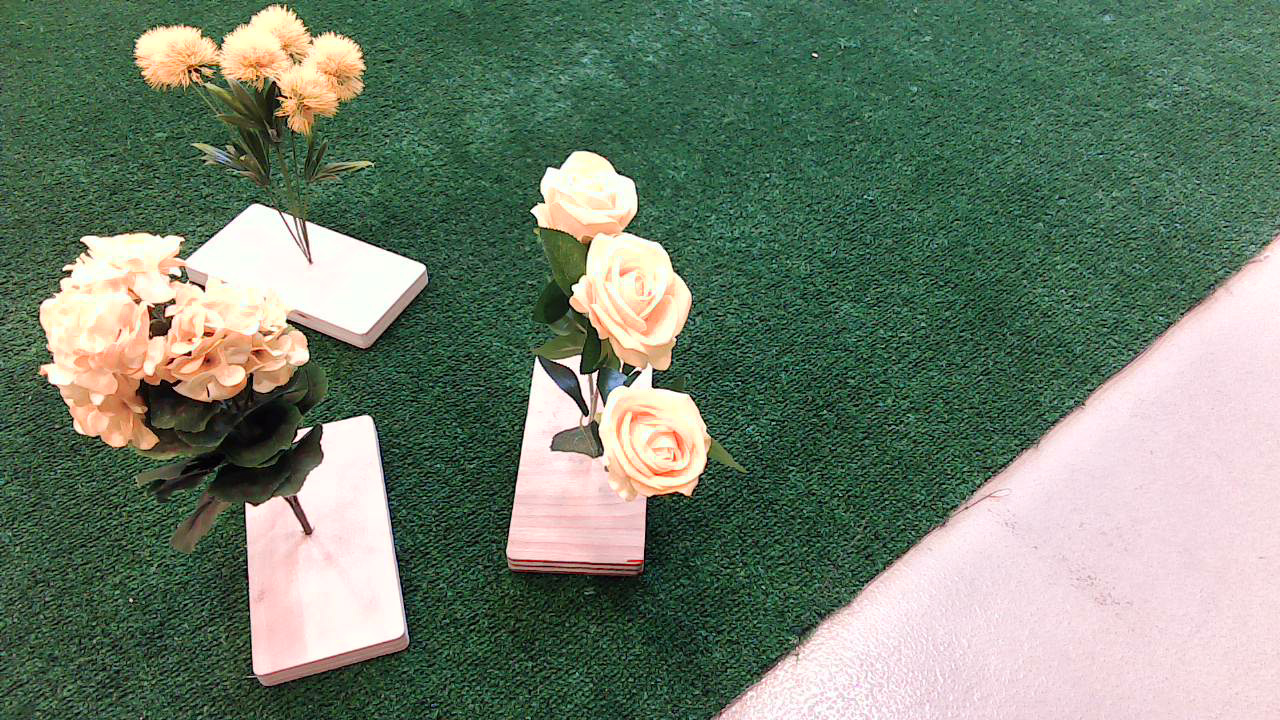dandelion: (118, 6, 433, 204)
geranium: (24, 227, 374, 572)
rose: (524, 145, 760, 534)
